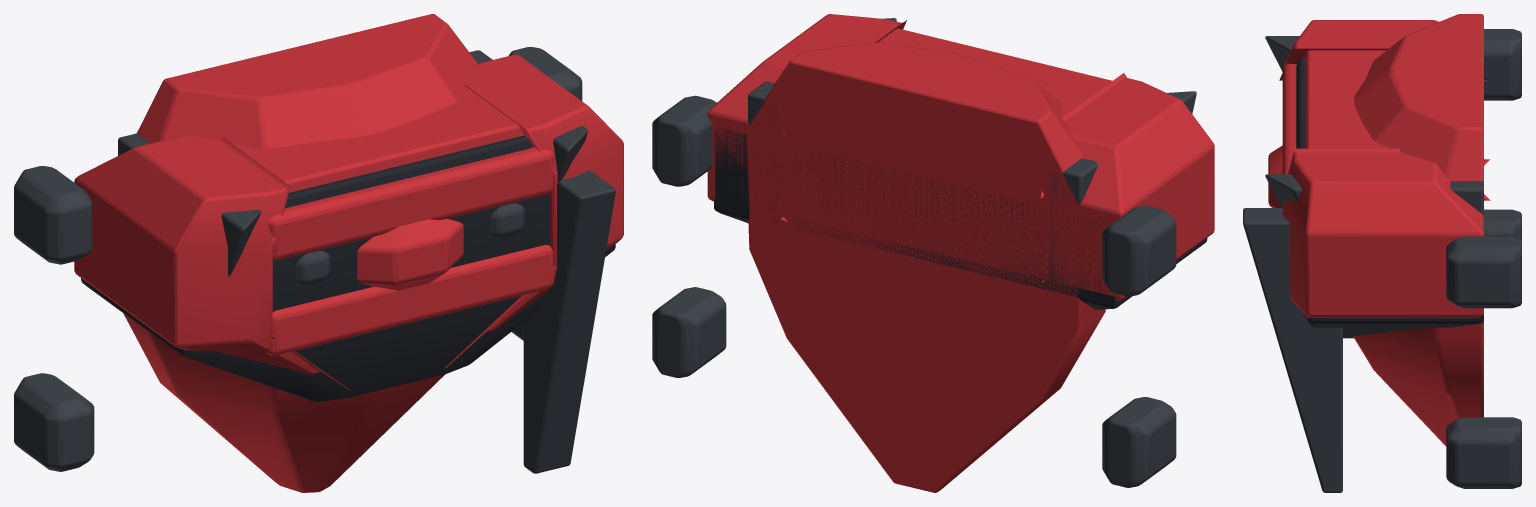
Rendered from LowerArmFront_Set09_Mantis.fbx.
3 renders of one model, left to right at view 1: azimuth 30°, elevation 25°; view 2: azimuth 150°, elevation 25°; view 3: azimuth 270°, elevation 25°, orthographic. The views are drawn at different scales.
Visible parts, largest first — view 1: LowerArmFront_Set09_Mantis; view 2: LowerArmFront_Set09_Mantis; view 3: LowerArmFront_Set09_Mantis.
Part boxes in pixels (x1,y1,x2,y2): LowerArmFront_Set09_Mantis: [14, 14, 623, 492]; LowerArmFront_Set09_Mantis: [652, 14, 1214, 492]; LowerArmFront_Set09_Mantis: [1243, 14, 1521, 492].
Size of the model in its own units: 0.43 by 0.33 by 0.2214.
